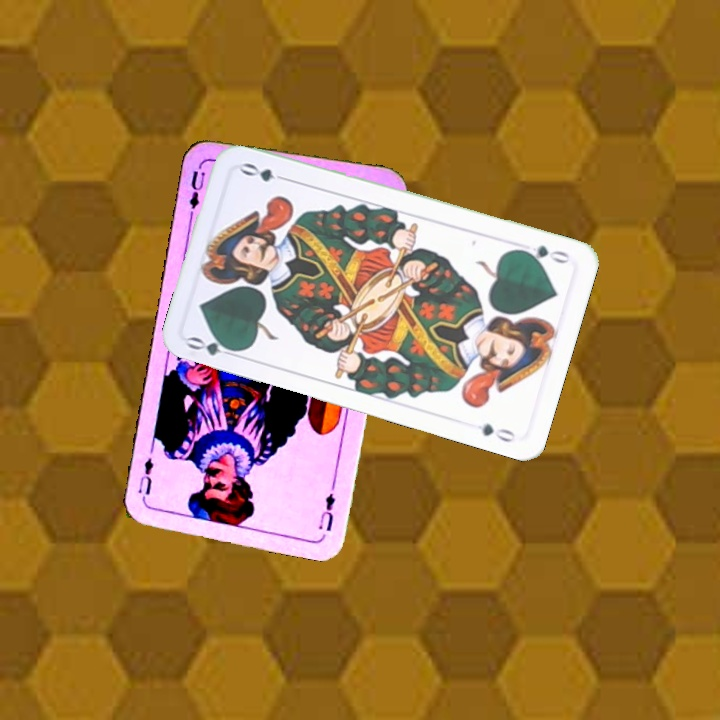EU: (185, 166, 208, 217), (314, 488, 338, 534)
GO: (183, 332, 243, 361), (514, 241, 572, 267)
